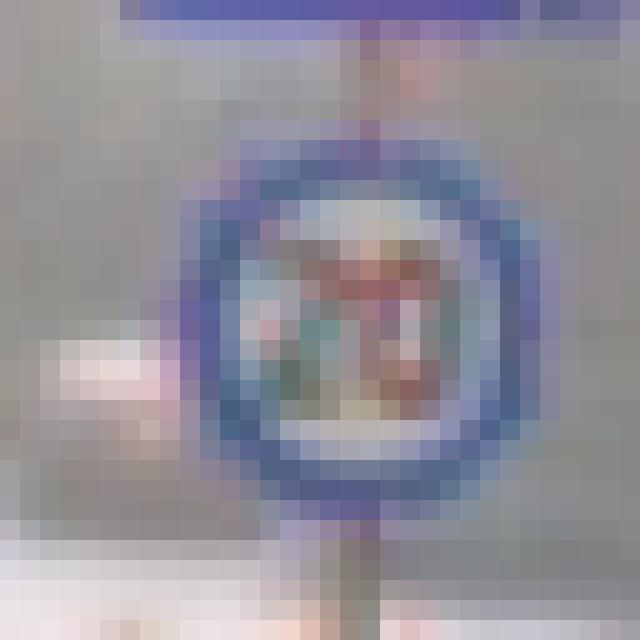SPEED LIMIT 20: (188, 157, 562, 504)
